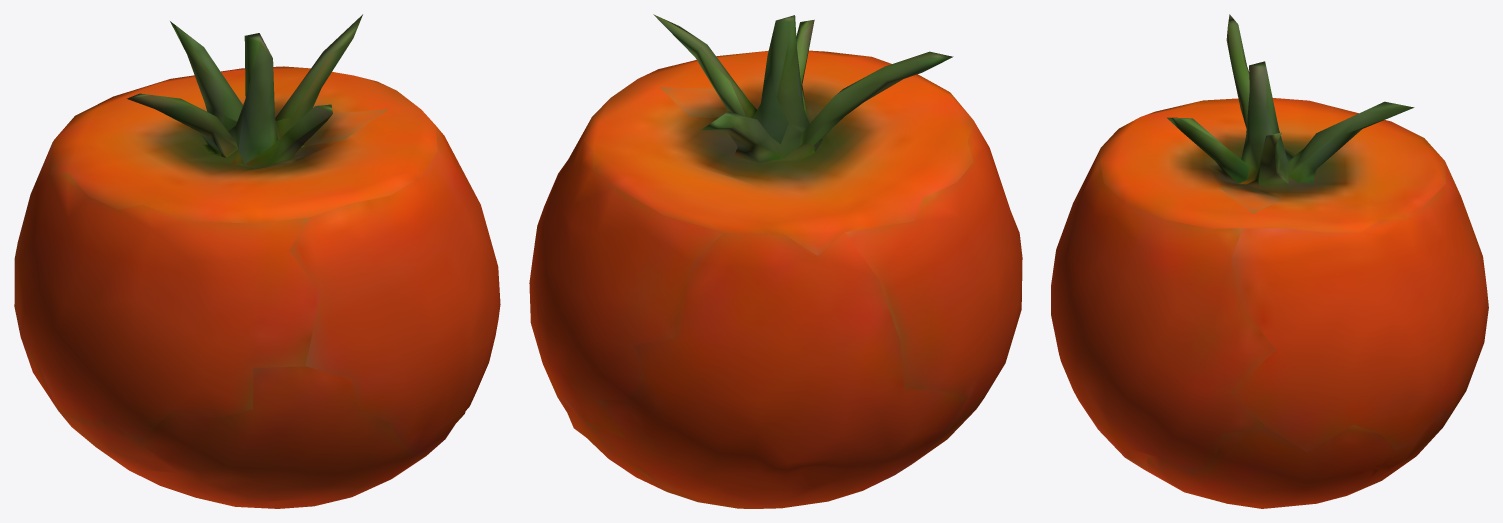
The model's file is tomate.glb.
The picture shows the model from 3 angles, left to right: view 1: azimuth 30°, elevation 25°; view 2: azimuth 150°, elevation 25°; view 3: azimuth 270°, elevation 25°; orthographic projection. The views are drawn at different scales.
Visible parts, largest first — view 1: tomate; view 2: tomate; view 3: tomate.
Boxes of the visible parts, x1=… form: tomate: x1=14, y1=14, x2=500, y2=508; tomate: x1=529, y1=14, x2=1022, y2=508; tomate: x1=1051, y1=14, x2=1488, y2=508.
Bounding box in the file's own units: 0.1262 × 0.1331 × 0.1279.
Materials: 1 (1 with a texture image).
